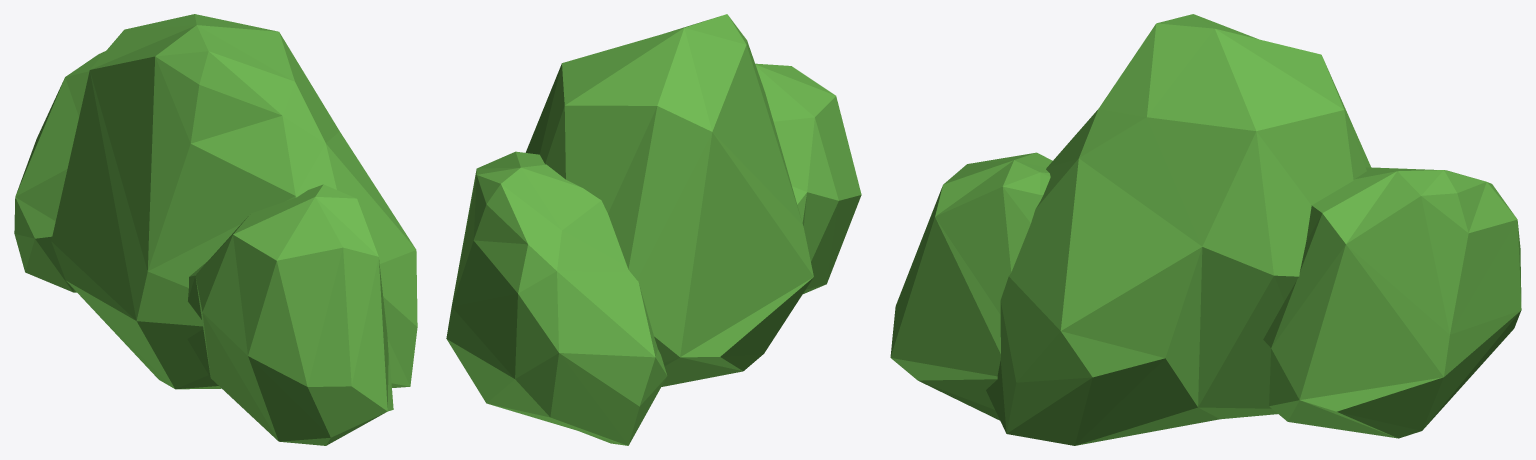
File: Buisson_Gros.fbx
The picture shows the model from 3 angles, left to right: view 1: azimuth 30°, elevation 25°; view 2: azimuth 150°, elevation 25°; view 3: azimuth 270°, elevation 25°; orthographic projection. The views are drawn at different scales.
Parts seen in each view (by area): view 1: pPlatonic16, pPlatonic18, pPlatonic17; view 2: pPlatonic16, pPlatonic17, pPlatonic18; view 3: pPlatonic16, pPlatonic17, pPlatonic18.
Part boxes in pixels (box(x1,y1,x2,y2)): pPlatonic16: box(51, 14, 417, 389); pPlatonic18: box(187, 184, 393, 445); pPlatonic17: box(14, 51, 105, 292); pPlatonic16: box(525, 14, 813, 386); pPlatonic17: box(446, 151, 667, 445); pPlatonic18: box(755, 63, 861, 293); pPlatonic16: box(986, 14, 1370, 445); pPlatonic17: box(1261, 167, 1521, 438); pPlatonic18: box(890, 152, 1052, 420).
Size of the model in its own units: 4.43 by 5.6 by 8.72.
